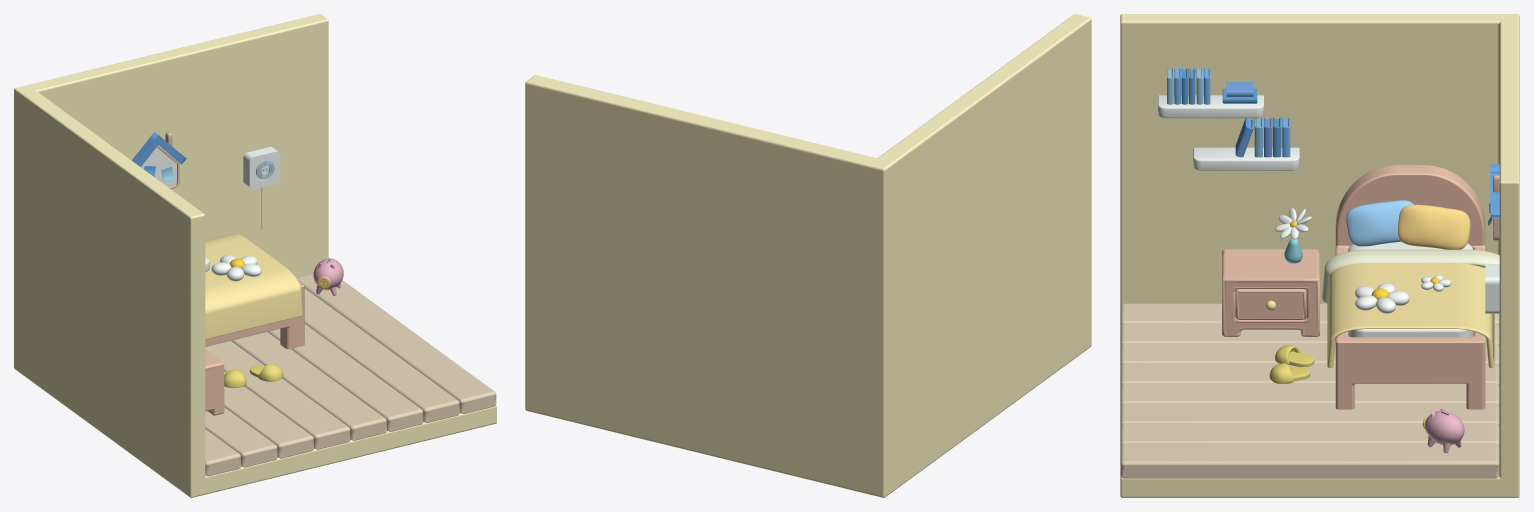
File: forestRoomFull.glb
The picture shows the model from 3 angles, left to right: view 1: azimuth 30°, elevation 25°; view 2: azimuth 150°, elevation 25°; view 3: azimuth 270°, elevation 25°; orthographic projection. The views are drawn at different scales.
Visible parts, largest first — view 1: Cube.002, Cube.101, Sphere.010, Cube.103, Cube.105; view 2: Cube.002; view 3: Cube.002, Cube.086, Cube.088, Sphere.010, Cube.101, Cube.087.
Boxes of the visible parts, x1,y1,x2,y2 form: Cube.002: (14, 14, 496, 497); Cube.101: (243, 147, 280, 189); Sphere.010: (313, 258, 343, 295); Cube.103: (132, 132, 186, 166); Cube.105: (141, 147, 176, 187); Cube.002: (525, 14, 1091, 497); Cube.002: (1120, 14, 1519, 497); Cube.086: (1193, 147, 1299, 170); Cube.088: (1158, 95, 1264, 118); Sphere.010: (1425, 407, 1464, 452); Cube.101: (1485, 264, 1499, 313); Cube.087: (1235, 118, 1253, 157).
Size of the model in its own units: 4 by 3.5 by 4.
